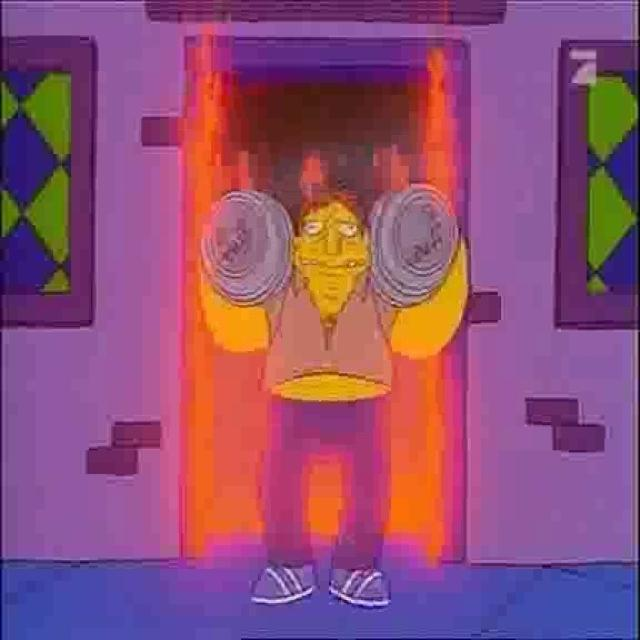Barney Gumble: (287, 178, 373, 323)
